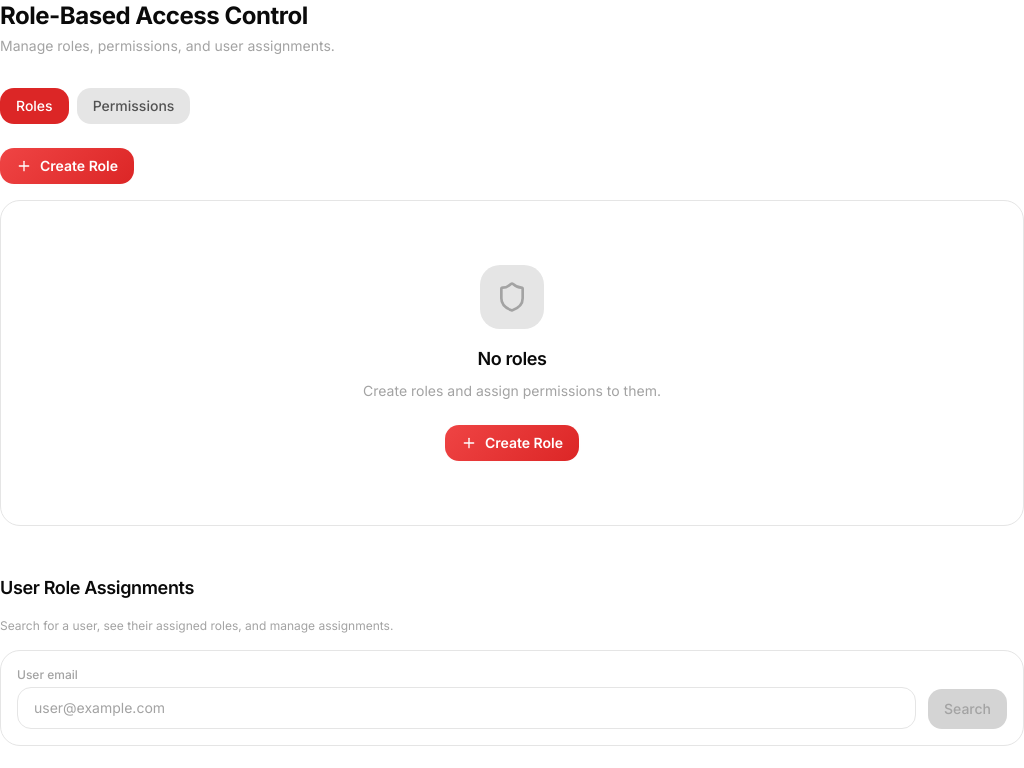
it: AdminRbacPage — roles tab › closes the create modal via Cancel and via backdrop
Click the 1st button "Create Role" at (67, 166), box x1=0 y1=148 x2=134 y2=184
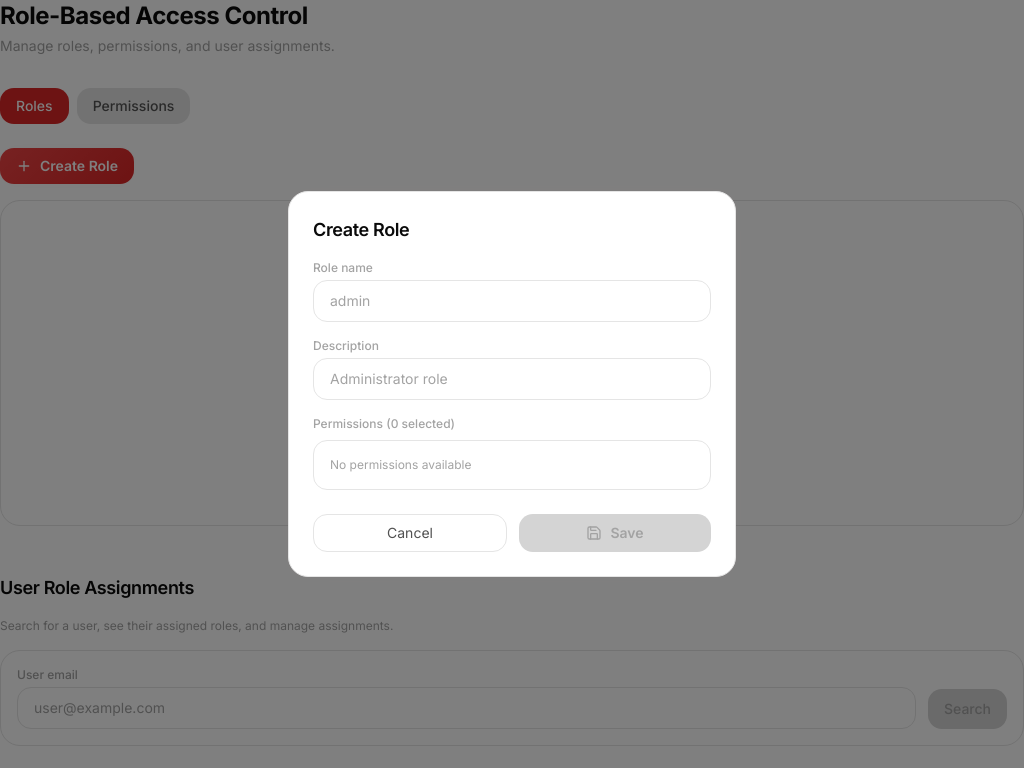
Click the button "Cancel" at (410, 533), box x1=313 y1=514 x2=507 y2=552
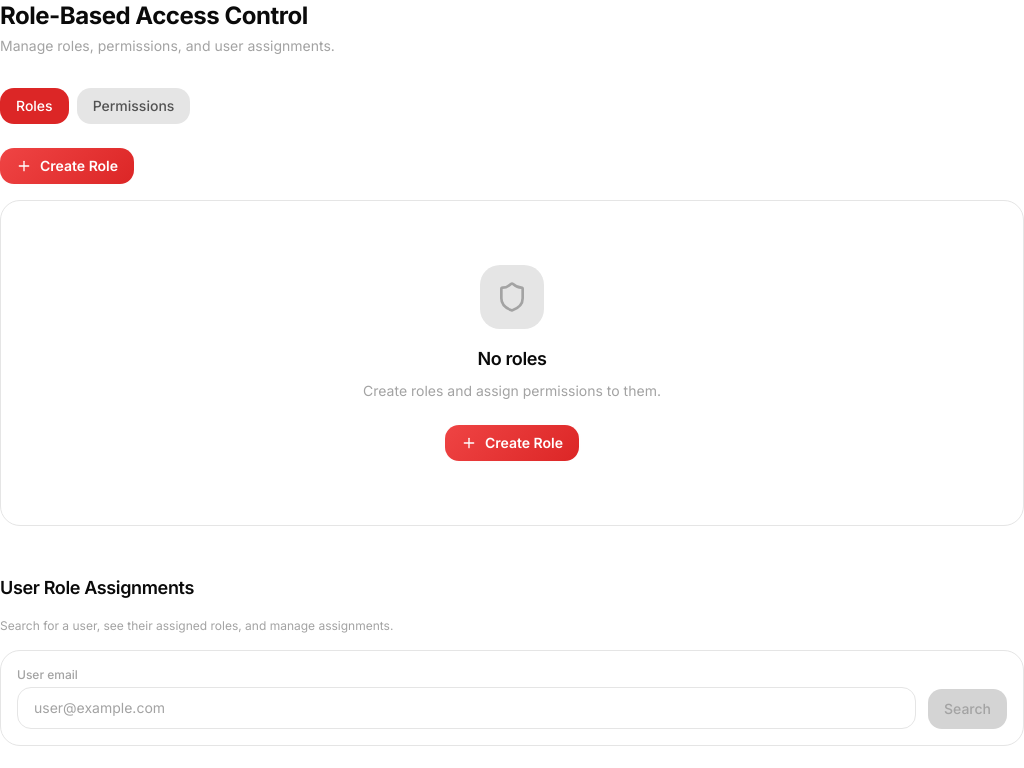
Now the field with placeholder "admin" is gone
Click the 1st button "Create Role" at (67, 166), box x1=0 y1=148 x2=134 y2=184
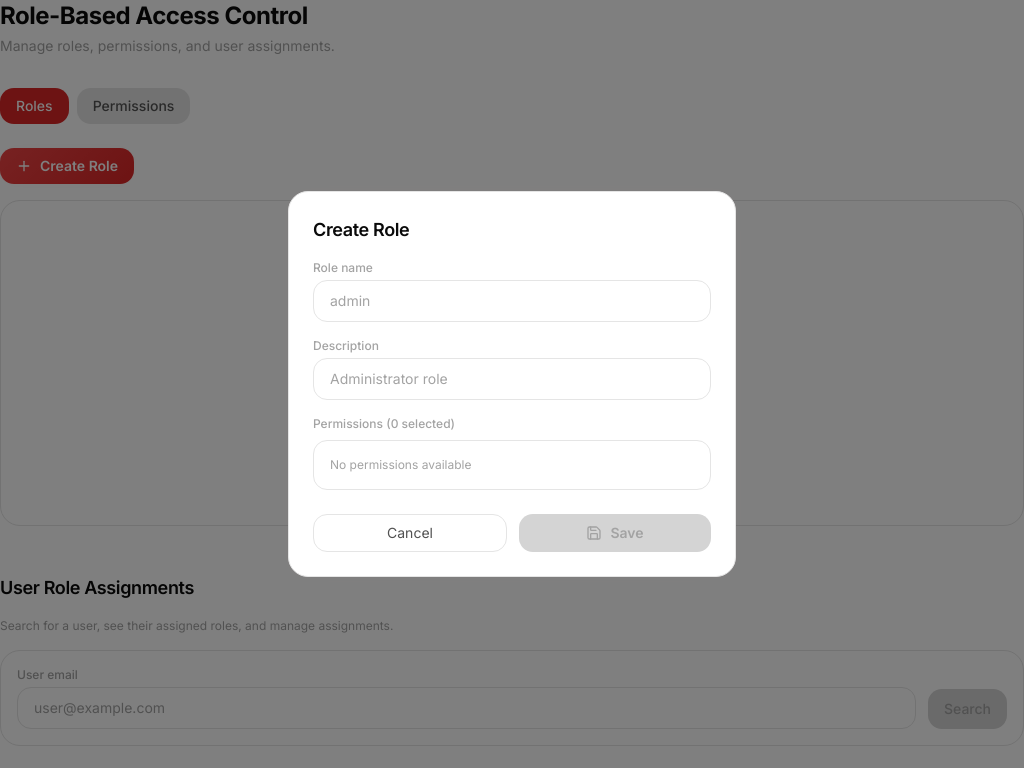
Click the 1st element with class "inset-0" at (61, 384), box x1=0 y1=0 x2=1023 y2=767
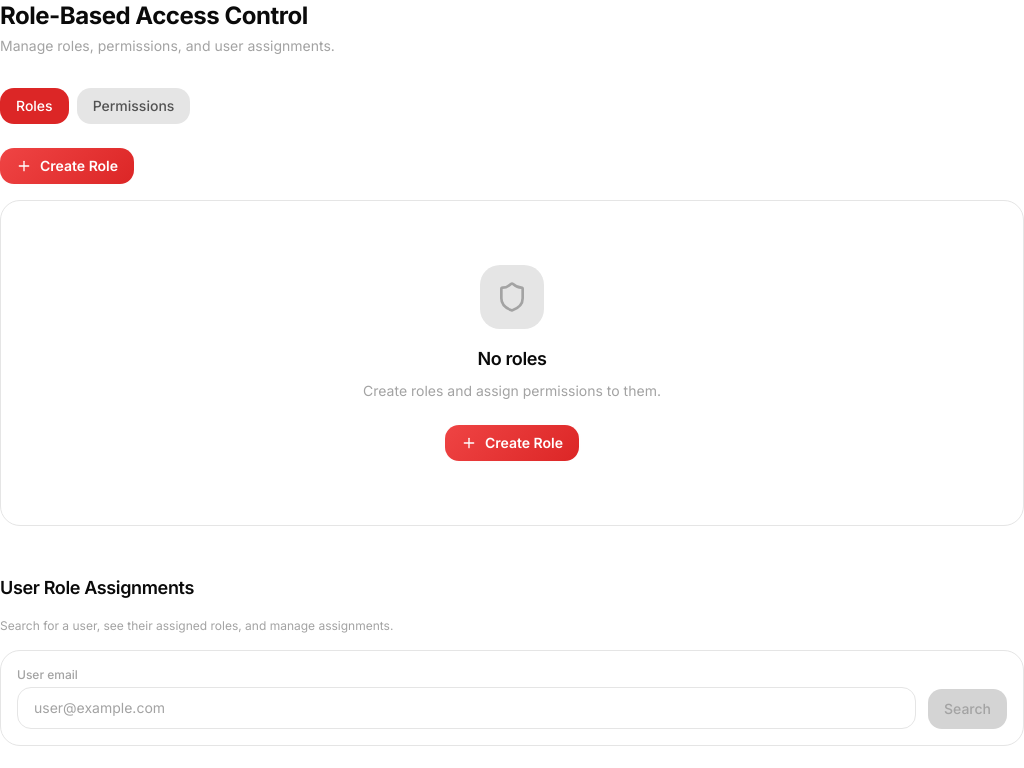
Now the field with placeholder "admin" is gone
